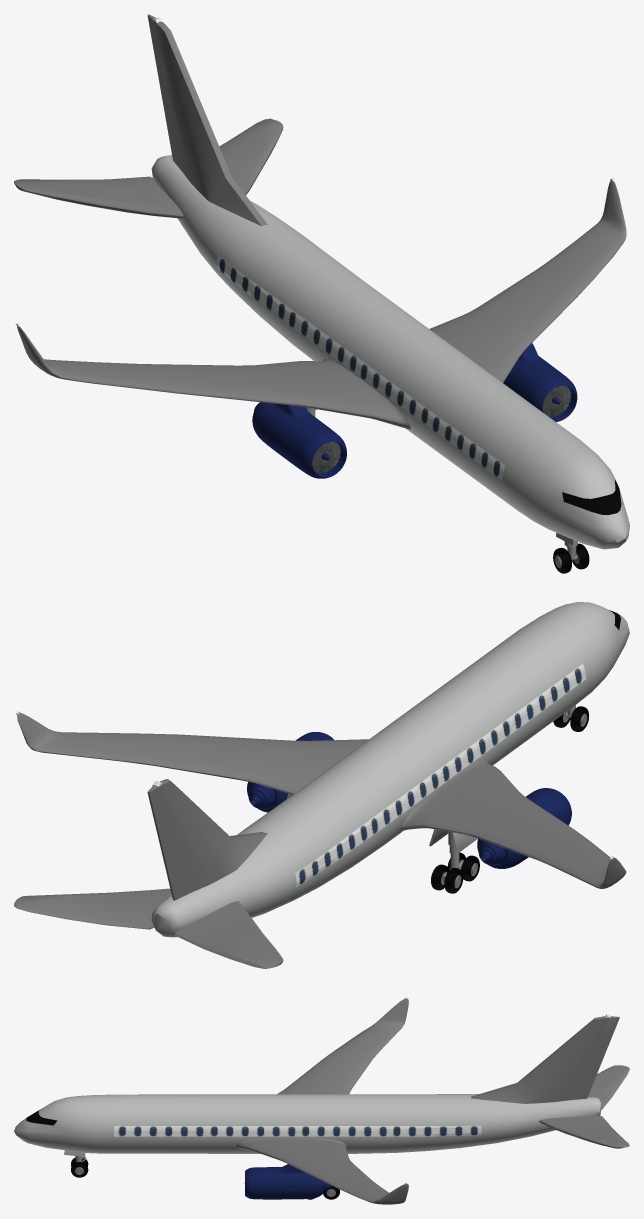
Rendered from Avion.fbx.
3 views of the same model, one above another, from view 1: azimuth 30°, elevation 25°; view 2: azimuth 150°, elevation 25°; view 3: azimuth 270°, elevation 25° (orthographic). The views are drawn at different scales.
Parts seen in each view (by area): view 1: AirPlane; view 2: AirPlane; view 3: AirPlane.
Part boxes in pixels (x1=…): AirPlane: x1=14, y1=14, x2=629, y2=573; AirPlane: x1=14, y1=602, x2=629, y2=968; AirPlane: x1=14, y1=997, x2=629, y2=1204.
Size of the model in its own units: 250 by 100 by 350.
Materials: 14 (3 with a texture image).
